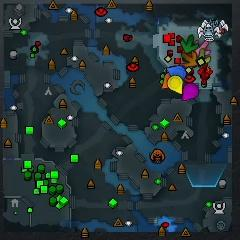p1: (166, 65, 187, 79)
p3: (181, 83, 199, 101)
p4: (168, 76, 183, 94)
p5: (161, 73, 172, 90)
x1: (195, 40, 212, 56)
x2: (198, 49, 211, 64)
x4: (180, 35, 198, 54)
x5: (181, 52, 197, 67)
